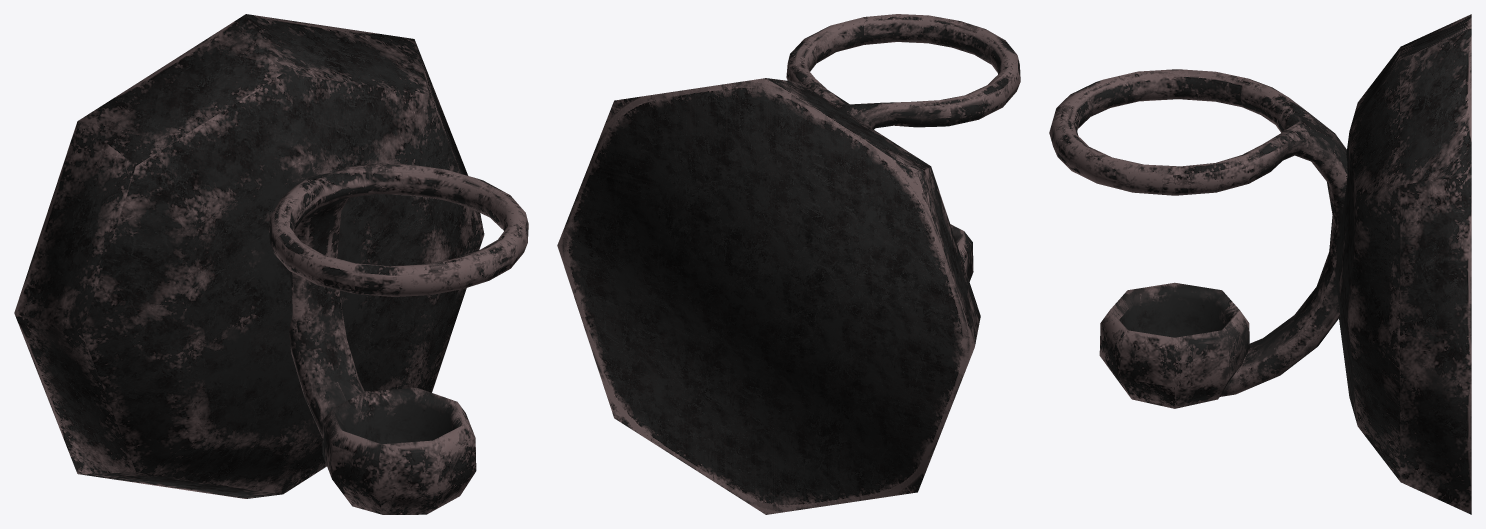
File: Holder_low.fbx
3 views of the same model, side by side, from view 1: azimuth 30°, elevation 25°; view 2: azimuth 150°, elevation 25°; view 3: azimuth 270°, elevation 25° (orthographic). The views are drawn at different scales.
Visible parts, largest first — view 1: Cube.007; view 2: Cube.007; view 3: Cube.007.
Boxes of the visible parts, x1=… form: Cube.007: x1=14, y1=14, x2=528, y2=514; Cube.007: x1=557, y1=14, x2=1020, y2=514; Cube.007: x1=1049, y1=14, x2=1471, y2=514.
Bounding box in the file's own units: 43.3 × 43.3 × 35.29.
1 material, 1 textured.
